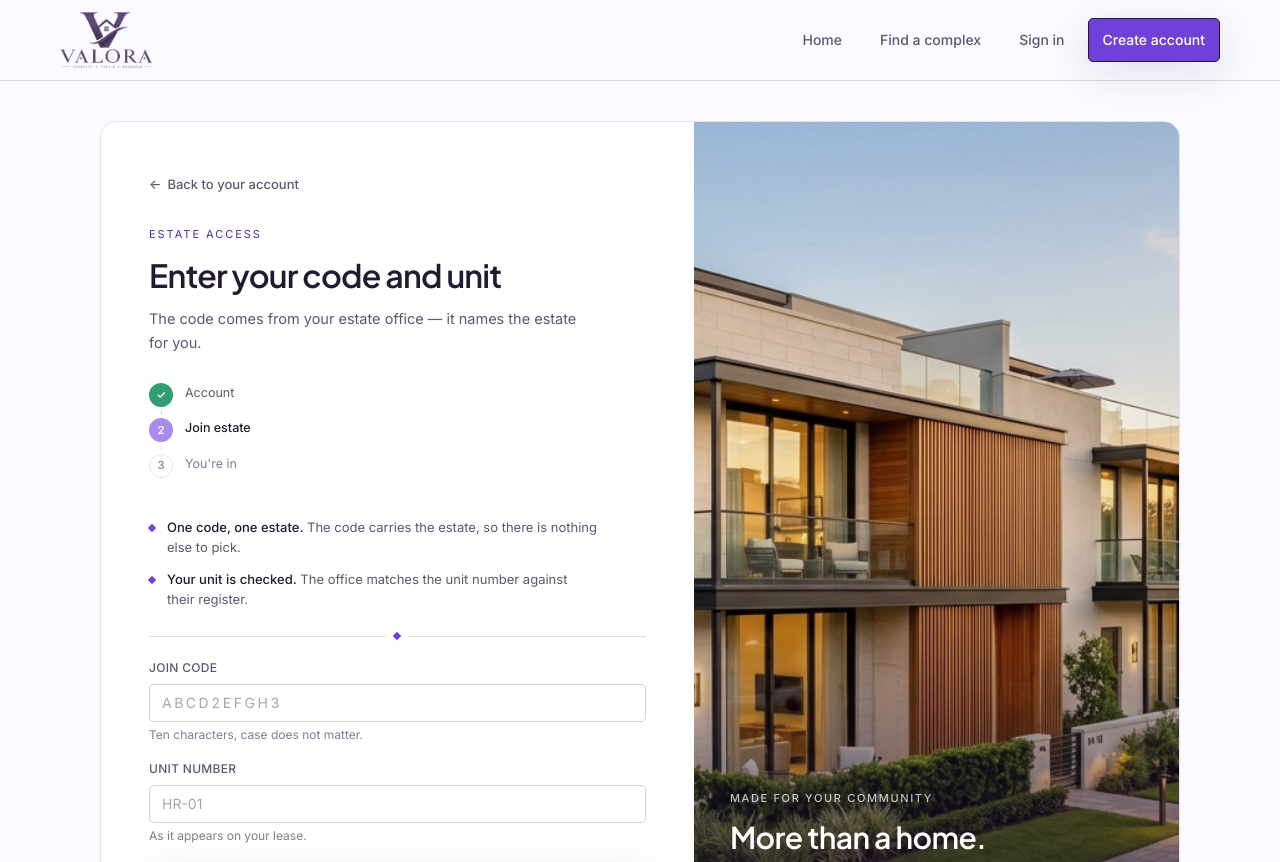
Scenario: Join › reports an unusable code as unusable, without naming any estate
Type "WRONGCODE1" into the field labelled "Join code" at [397, 703], box [149,684,646,722]
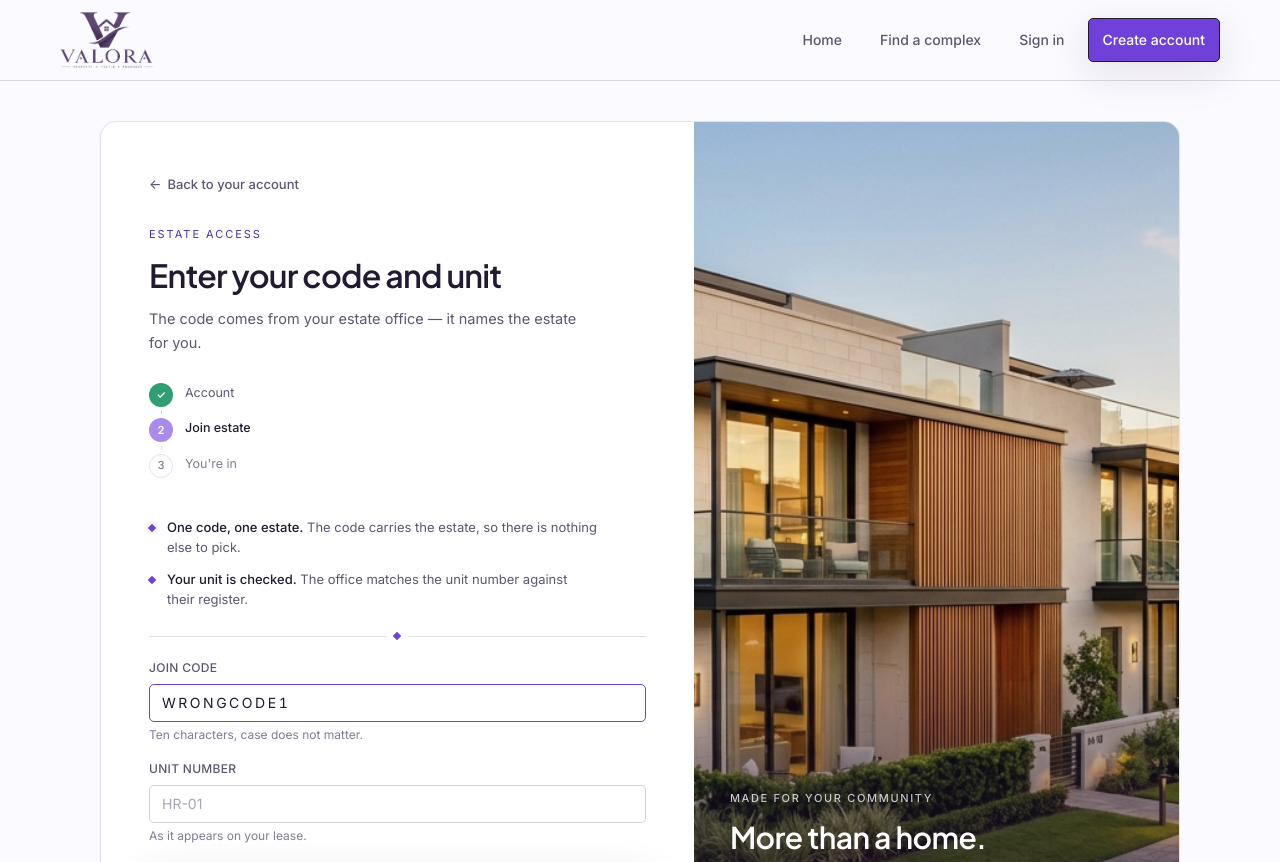
Type "A-101" into the field labelled "Unit number" at [397, 804], box [149,785,646,823]
(page scrolled)
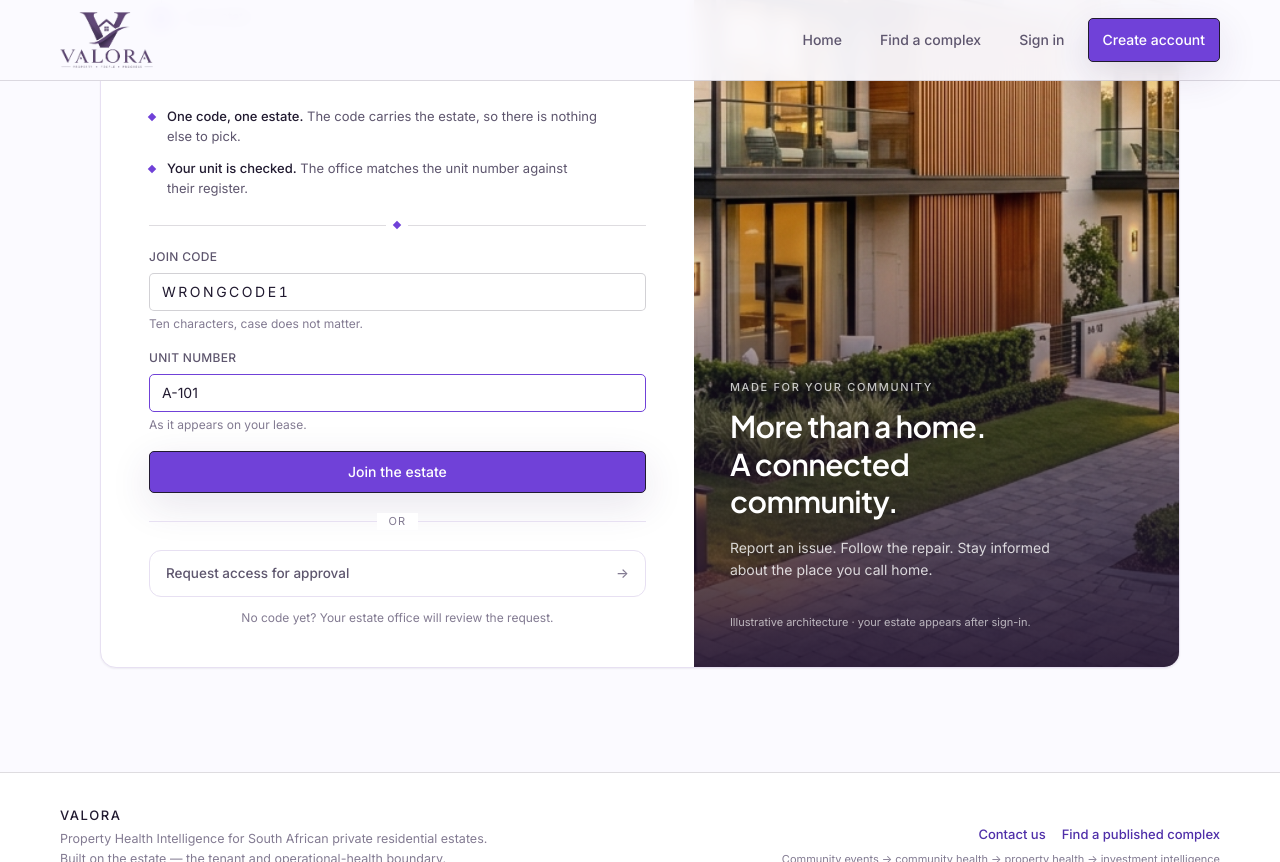
Click the button "Join the estate" at [397, 472], box [149,450,646,492]
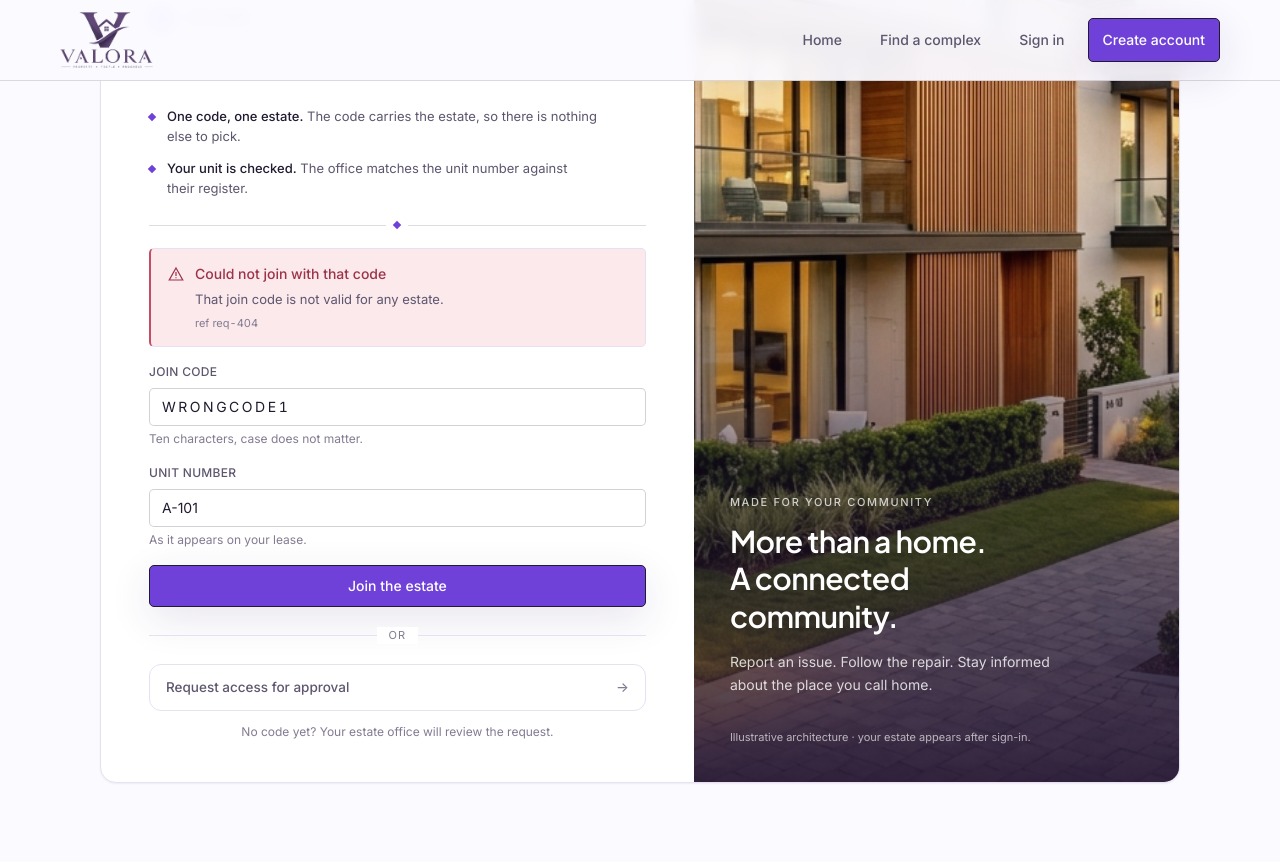
Expected: the text "That join code is not valid for any estate." is shown, [195,289,444,309]
Expected: the text "ref req-404" is shown, [195,316,258,330]
